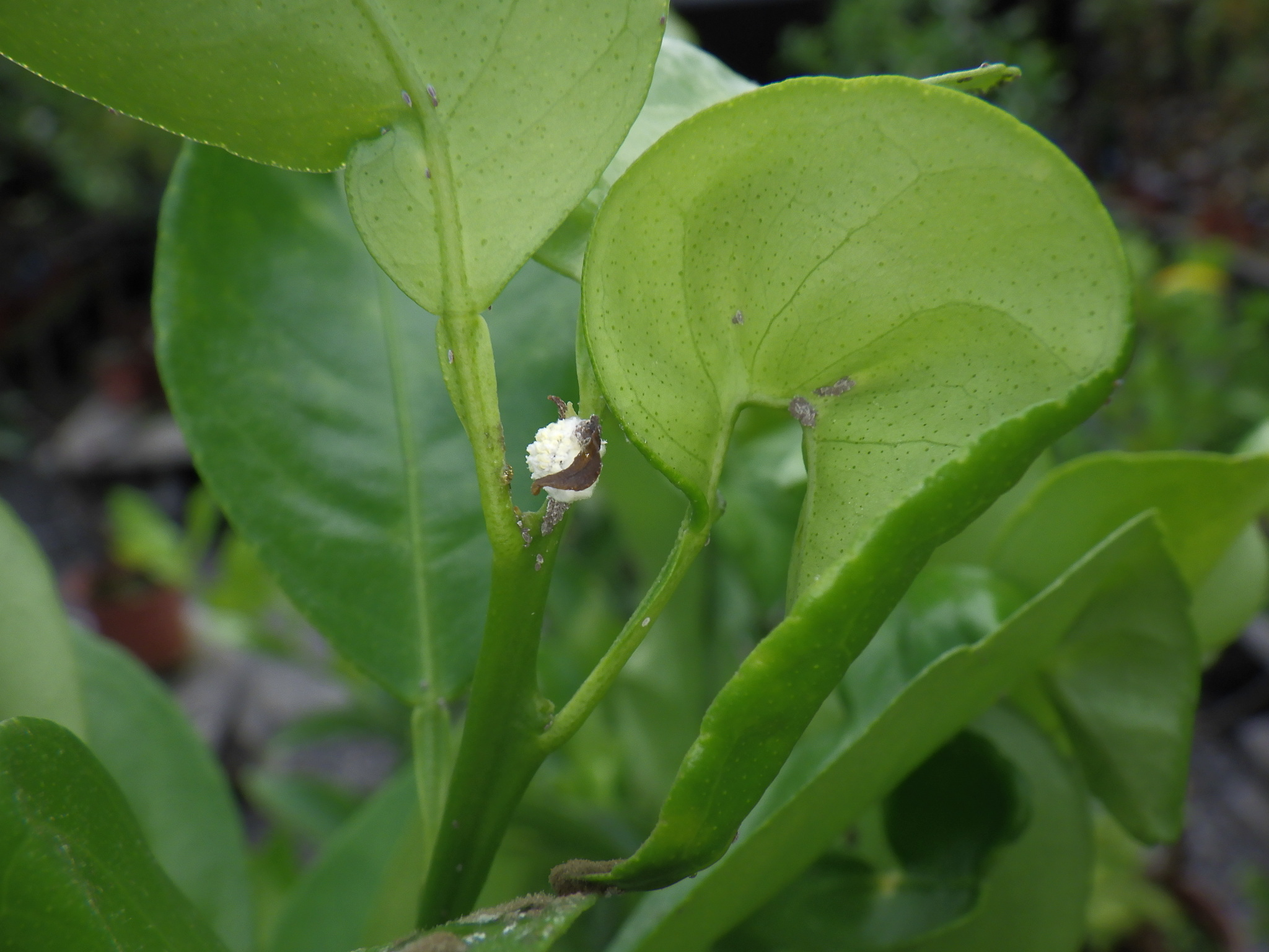Scale_Insect: (526, 404, 601, 503)
